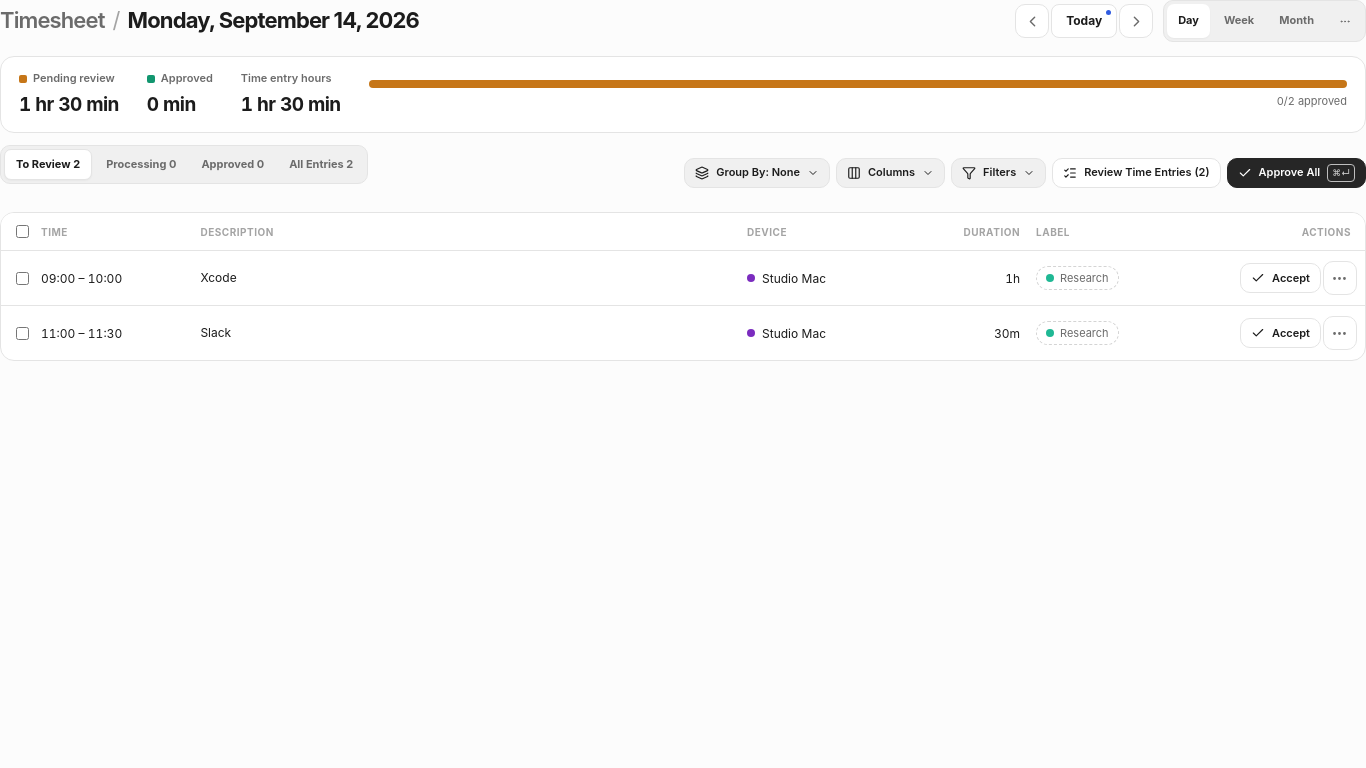
Test: TimesheetScreen › opens the label and review prompts
This screenshot has width=1366, height=768.
Step 1. Click the button titled "Suggested label" in the row of "09:00" → (1077, 278), box [1036,266,1119,290]
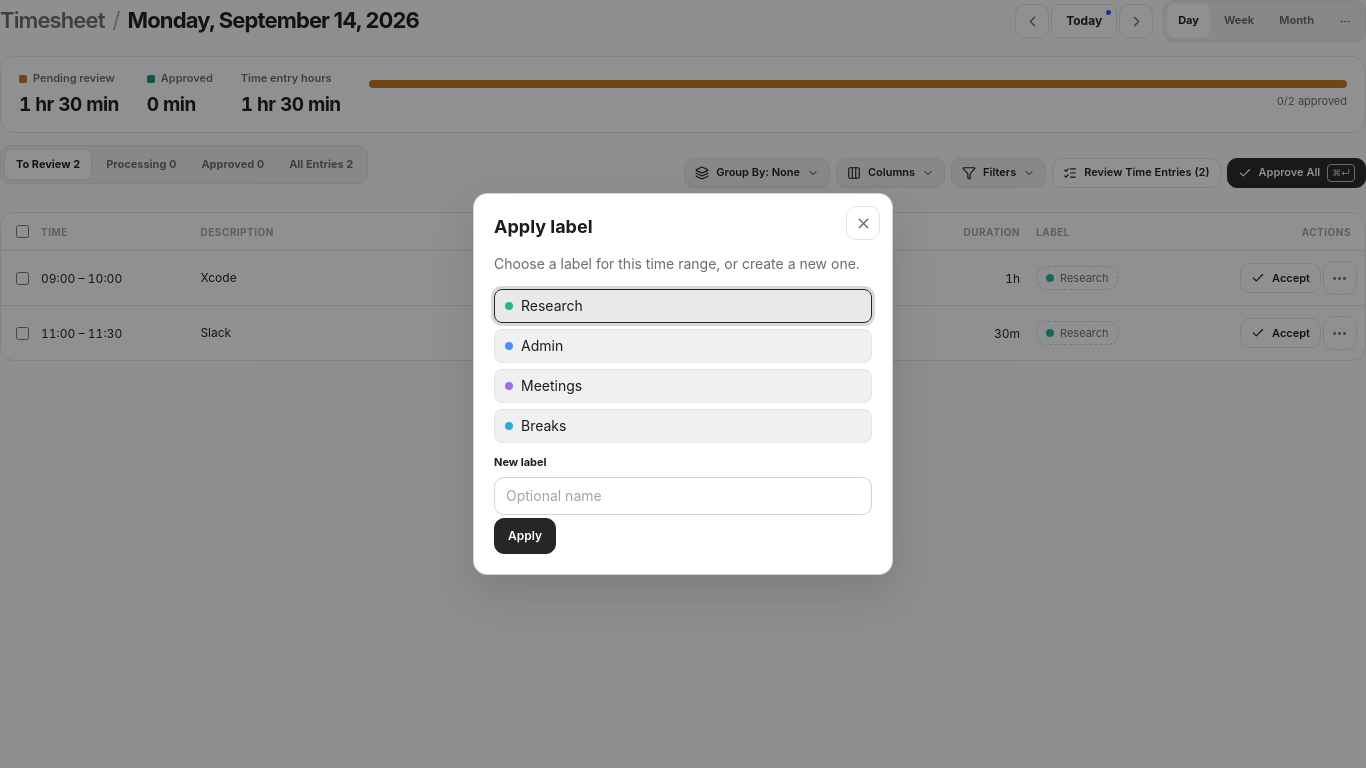
Now the dialog shows "Apply label", box [494,216,593,237]
Step 2. Click the button named "Close" → (863, 223), box [846,206,880,240]
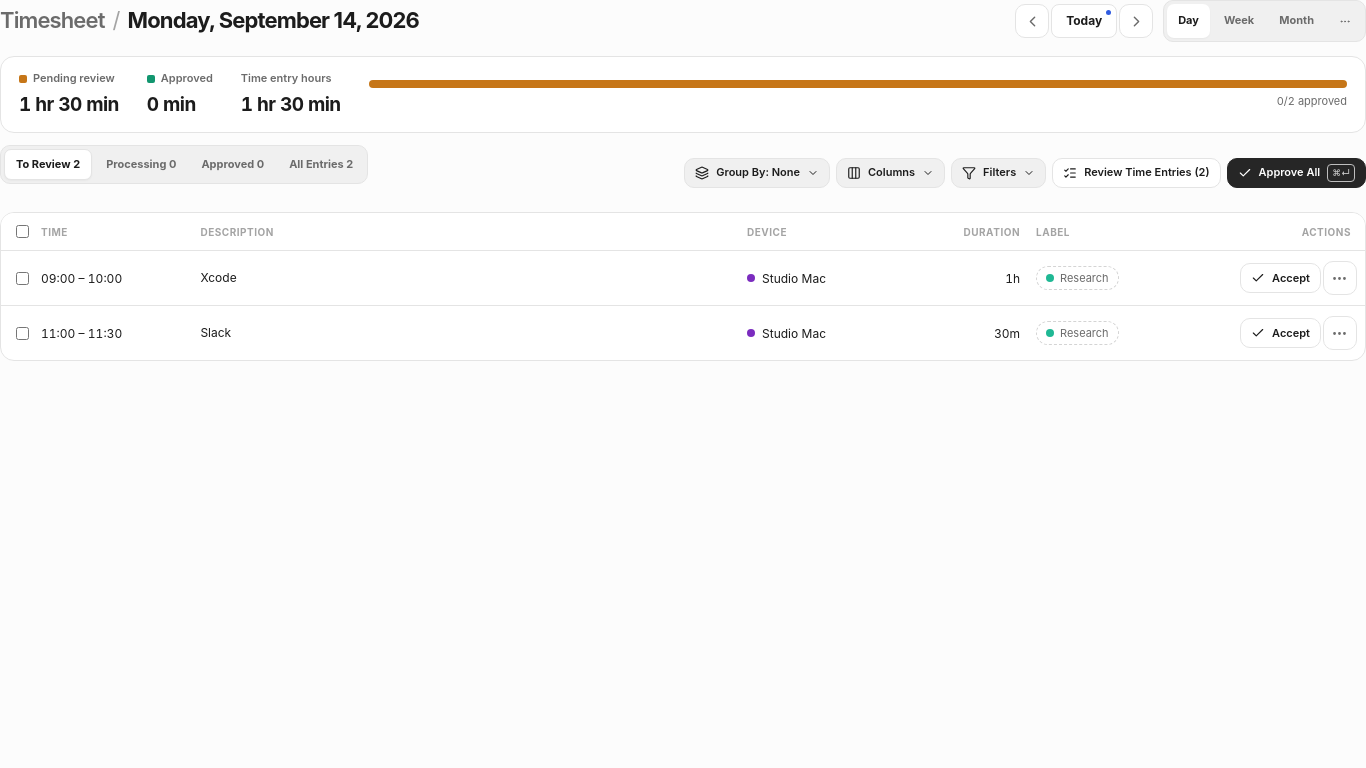
Step 3. Click the button "Review Time Entries (2)" → (1136, 173), box [1052,158,1220,188]
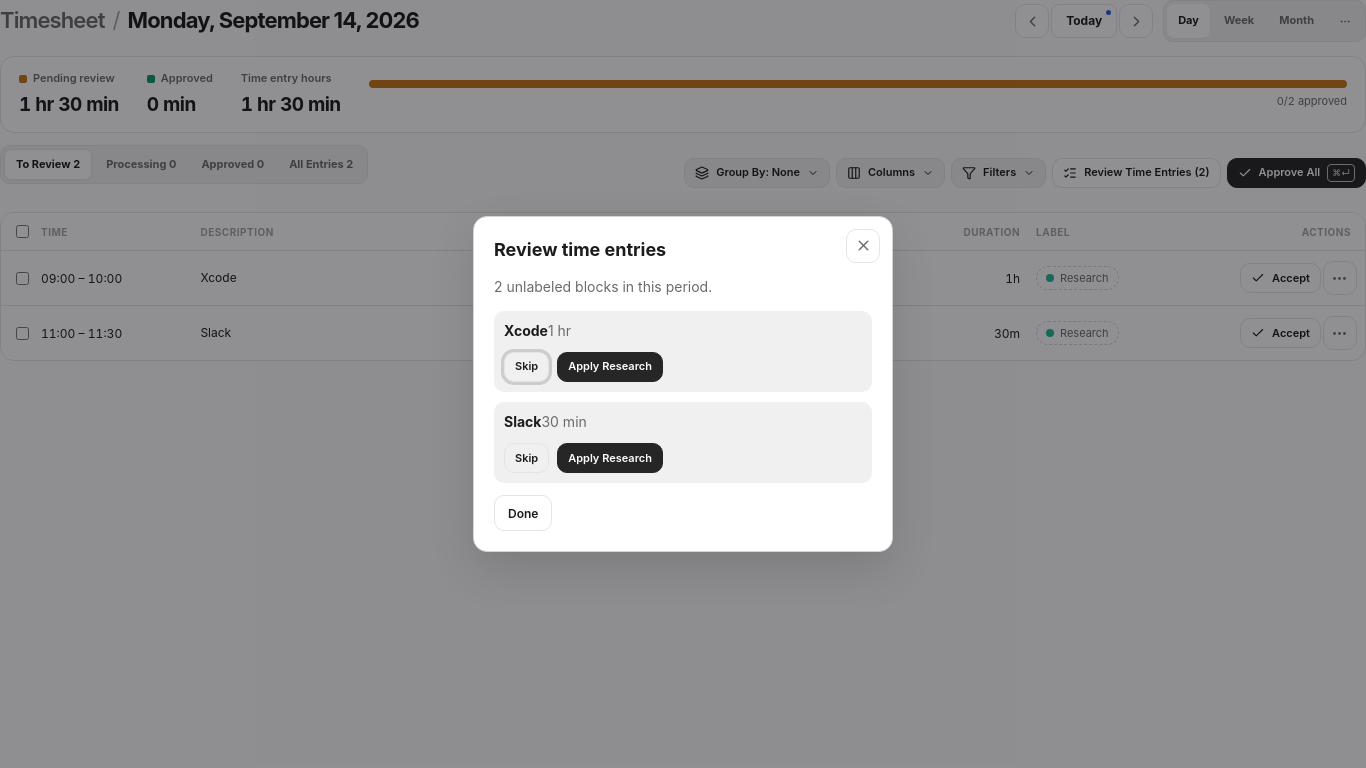
Now the dialog shows "2 unlabeled blocks in this period", box [473,216,893,552]
Now the dialog shows "Xcode", box [504,322,548,339]
Now the dialog shows "Slack", box [504,413,542,430]
